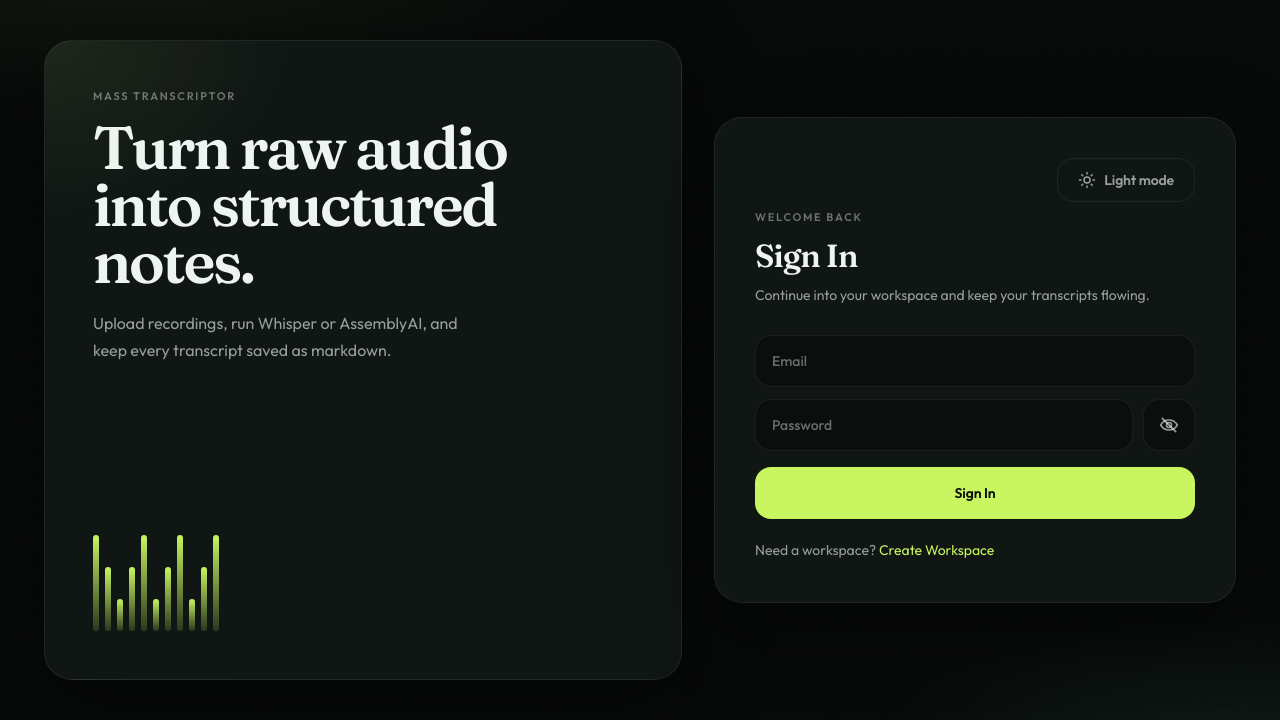
Scenario: signin stores auth and redirects to tenant jobs
Type "owner@example.com" into the field labelled "Email" at (975, 361), box [755,335,1195,387]
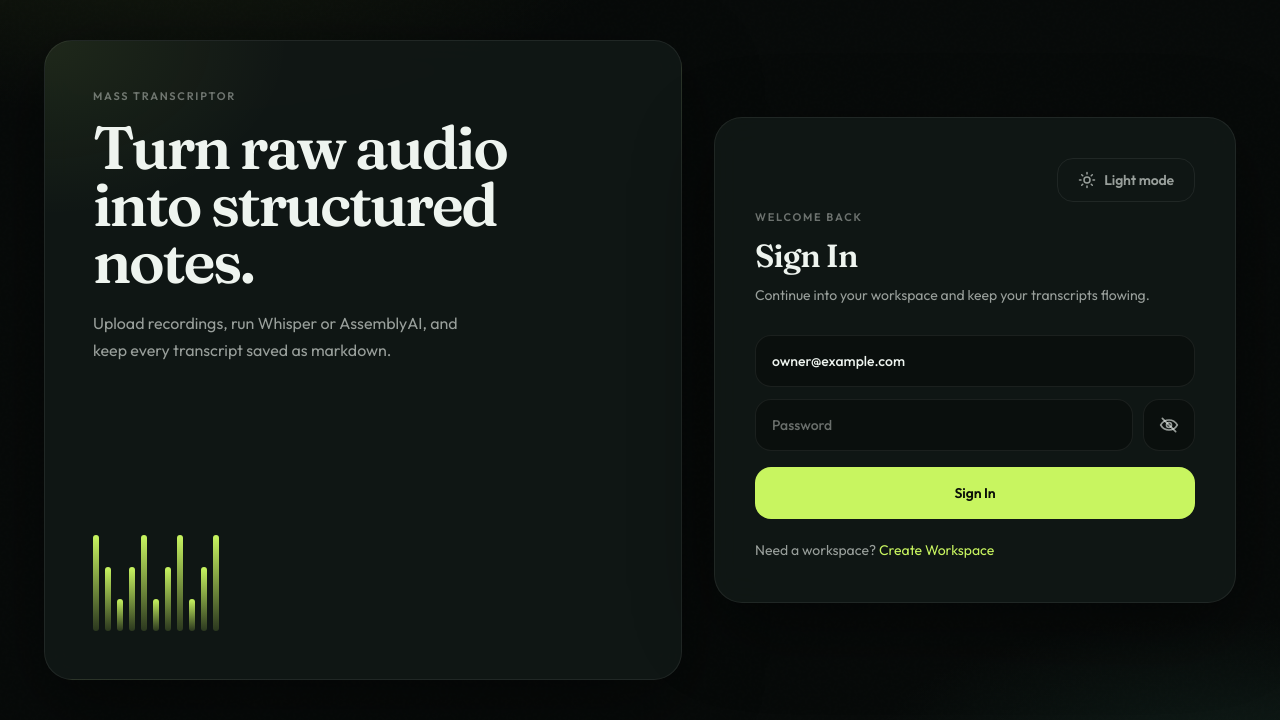
Type "secret123" into the password field labelled "Password" at (944, 425), box [755,399,1133,451]
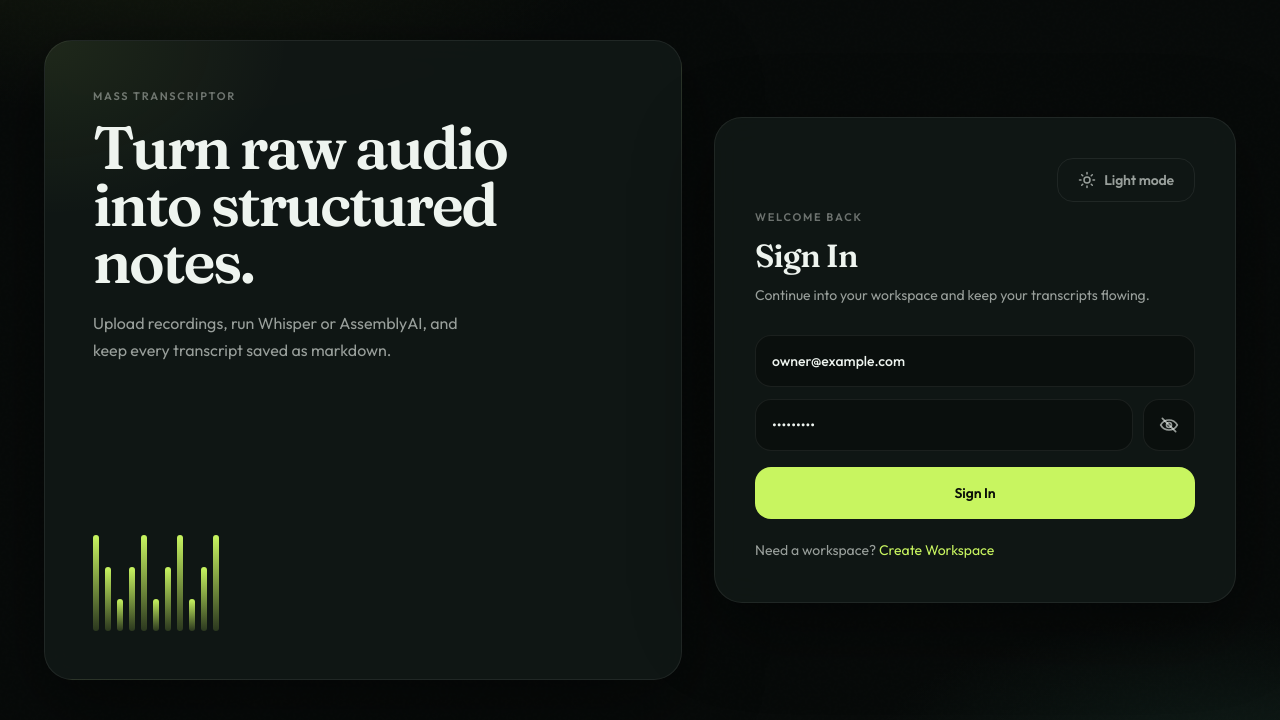
Click the button "Sign In" at (975, 493), box [755,467,1195,519]
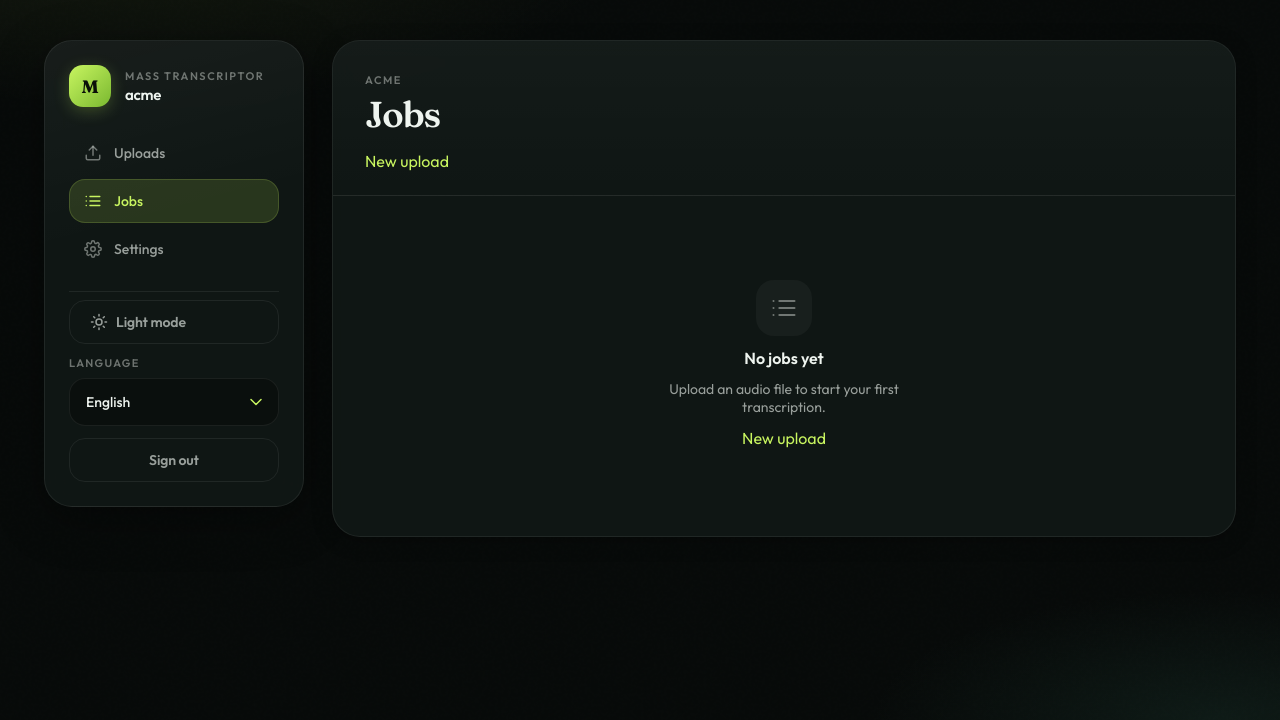
Expected: the heading "Jobs" is shown, [365,92,440,136]
